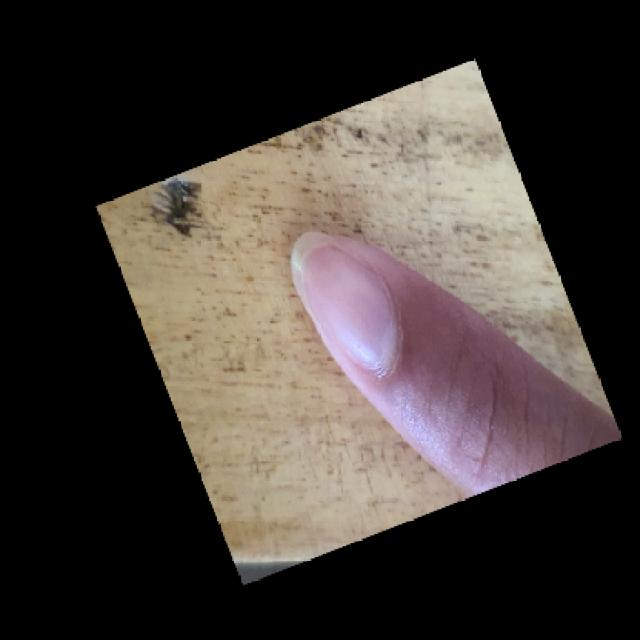Nail: (291, 231, 393, 367)
